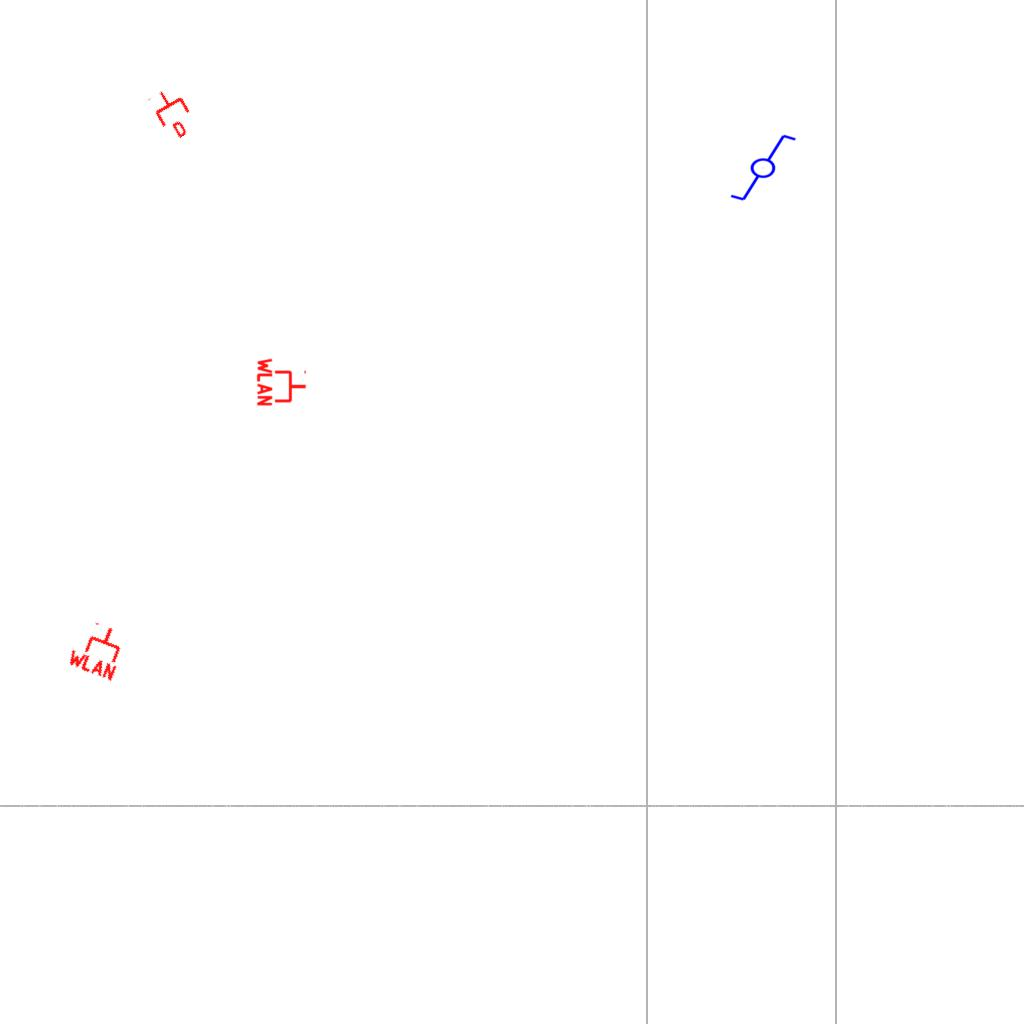Datenanschluss_einfach: (145, 82, 201, 144)
WLAN: (64, 615, 132, 683), (256, 356, 308, 408)
Wechselschalter: (720, 131, 798, 203)
